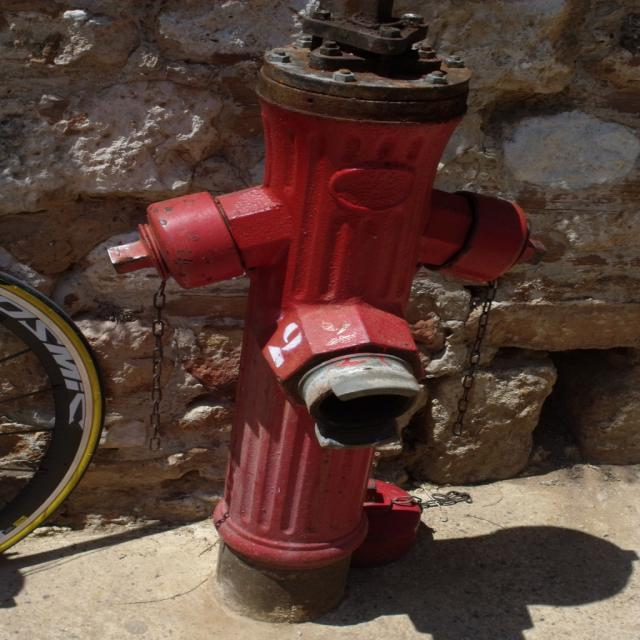fire_hydrant: (106, 0, 547, 623)
